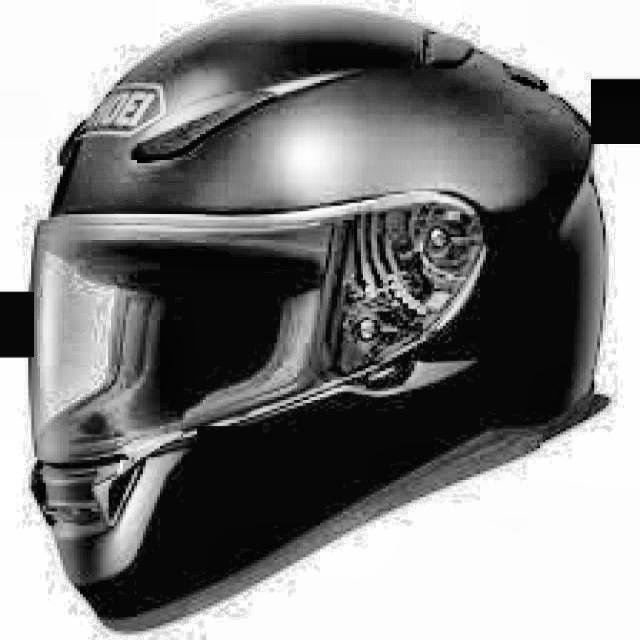Helmet: (27, 8, 626, 638)
